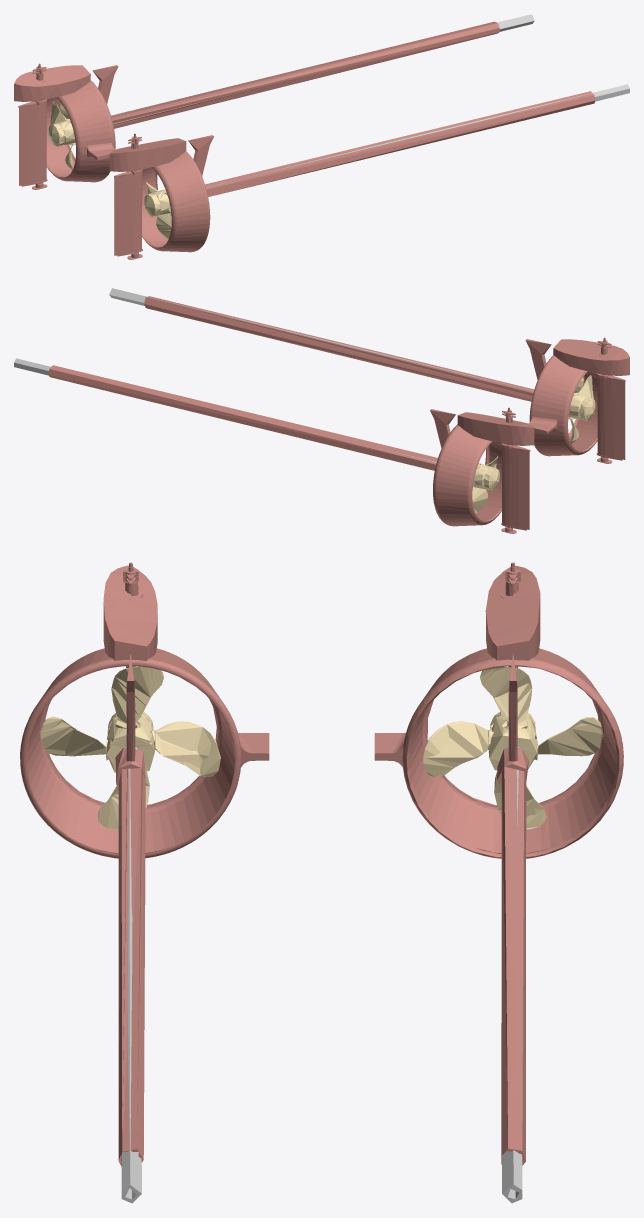
Rendered from hull_drivechain.dae.
3 renders of one model, top to bottom at view 1: azimuth 30°, elevation 25°; view 2: azimuth 150°, elevation 25°; view 3: azimuth 270°, elevation 25°, orthographic. The views are drawn at different scales.
Visible parts, largest first — view 1: node40.007, node41.007, node122.006, node123.006, node126.006, node125.006, node108.006, node69.006; view 2: node41.007, node40.007, node123.006, node122.006, node126.006, node125.006, node69.006, node108.006; view 3: node40.007, node41.007, node122.006, node123.006, node69.006, node108.006.
Boxes of the visible parts, box(x1,y1,x2,y2) form: node40.007: box(14, 65, 115, 182); node41.007: box(109, 138, 210, 252); node122.006: box(188, 84, 629, 196); node123.006: box(92, 14, 534, 128); node126.006: box(114, 133, 142, 259); node125.006: box(18, 63, 47, 189); node108.006: box(48, 101, 75, 169); node69.006: box(144, 182, 171, 239); node41.007: box(528, 339, 629, 456); node40.007: box(433, 412, 534, 526); node123.006: box(14, 358, 455, 470); node122.006: box(109, 288, 551, 401); node126.006: box(596, 337, 625, 463); node125.006: box(501, 407, 530, 533); node69.006: box(568, 375, 595, 443); node108.006: box(472, 456, 499, 513); node40.007: box(374, 565, 623, 858); node41.007: box(20, 565, 269, 858); node122.006: box(115, 654, 145, 1203); node123.006: box(497, 654, 528, 1203); node69.006: box(40, 666, 220, 829); node108.006: box(423, 666, 603, 829).
Size of the model in its own units: 0.5463 by 0.2756 by 0.1264.
